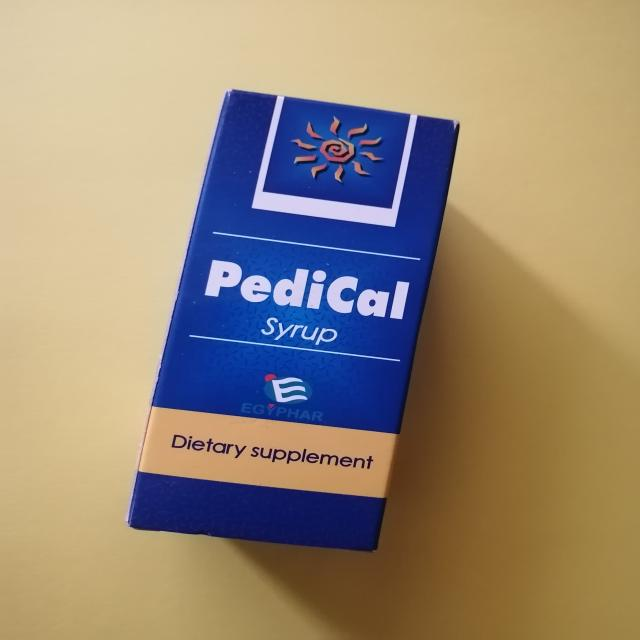Medicine: (118, 82, 466, 554)
